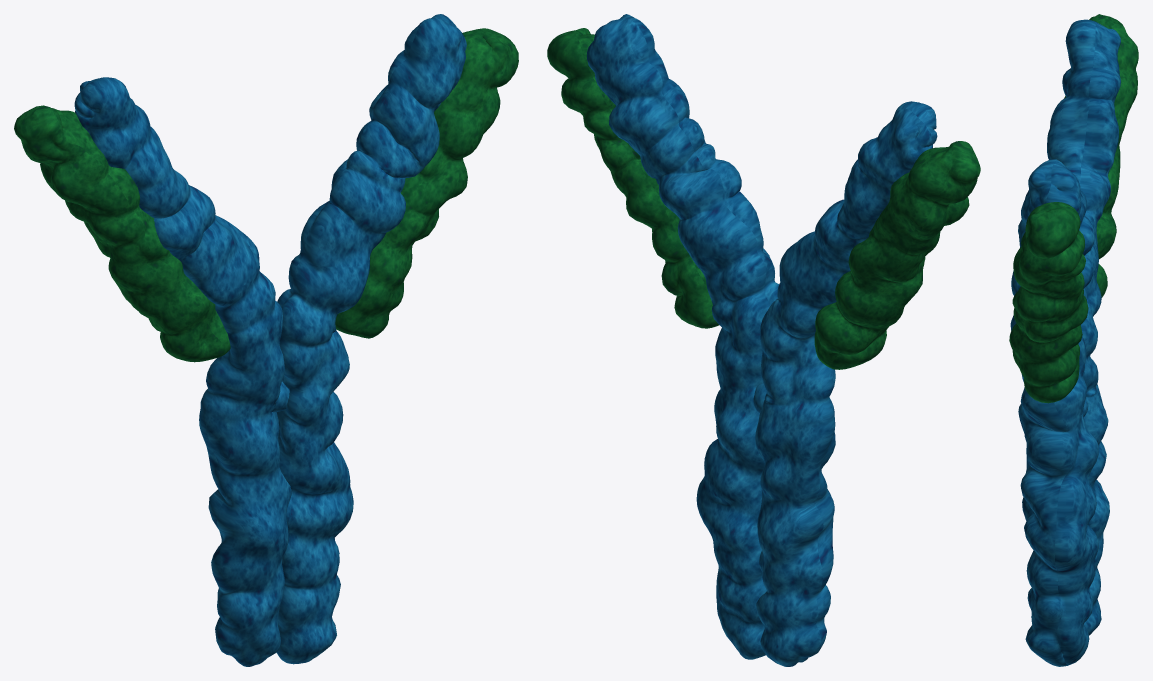
The model's file is antigen_V05.glb.
3 renders of one model, left to right at view 1: azimuth 30°, elevation 25°; view 2: azimuth 150°, elevation 25°; view 3: azimuth 270°, elevation 25°, orthographic. The views are drawn at different scales.
Parts seen in each view (by area): view 1: antibody_obj; view 2: antibody_obj; view 3: antibody_obj.
Boxes of the visible parts, x1=… form: antibody_obj: x1=14, y1=14, x2=518, y2=666; antibody_obj: x1=547, y1=14, x2=980, y2=666; antibody_obj: x1=1009, y1=14, x2=1138, y2=666.
Bounding box in the file's own units: 4.59 × 5.76 × 1.2.
2 materials, 2 textured.
